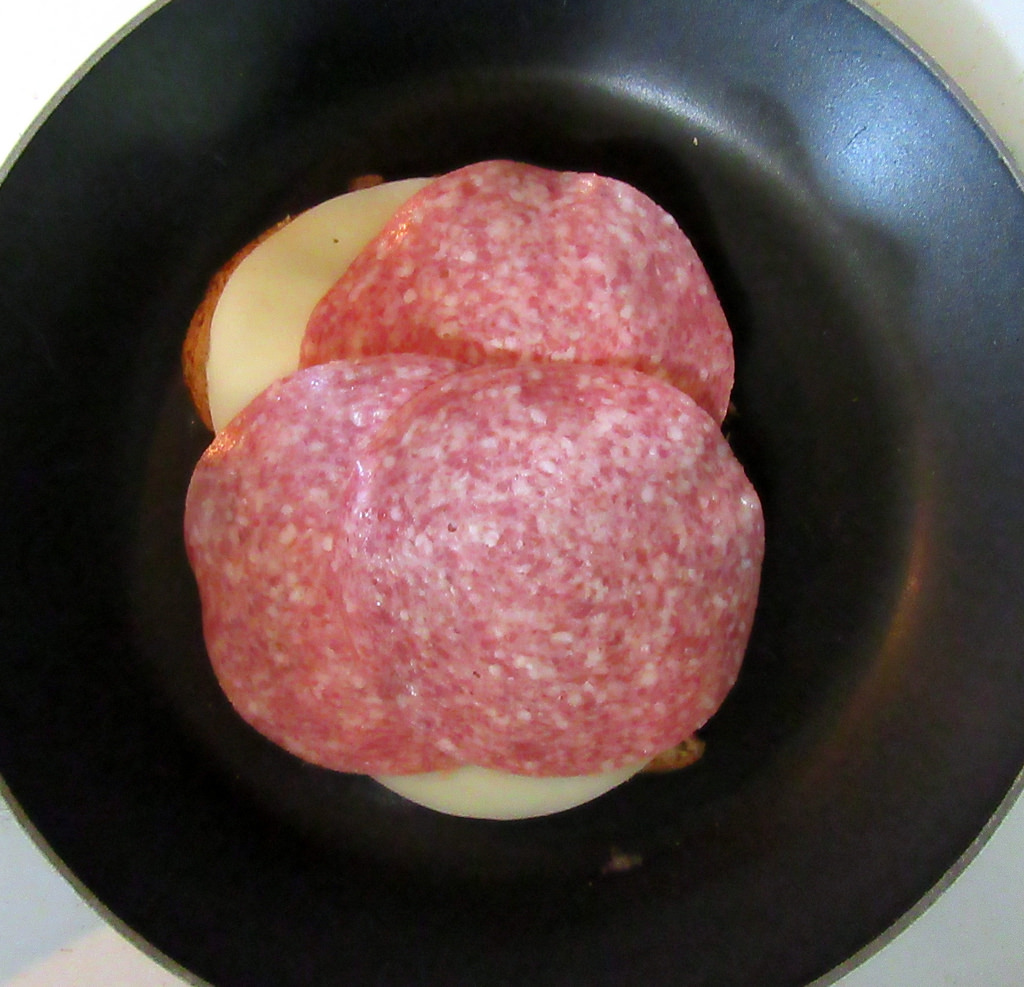slice of bread: (183, 244, 317, 367)
